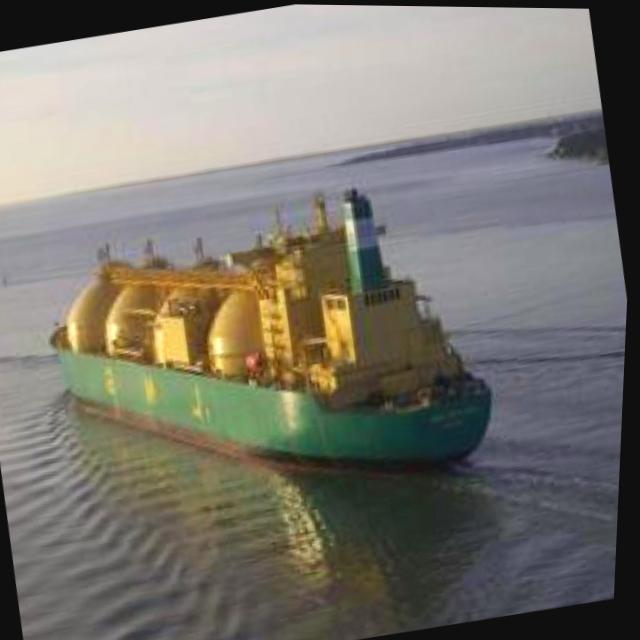ship2: (52, 187, 498, 473)
